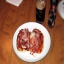pizza: (17, 28, 44, 53)
